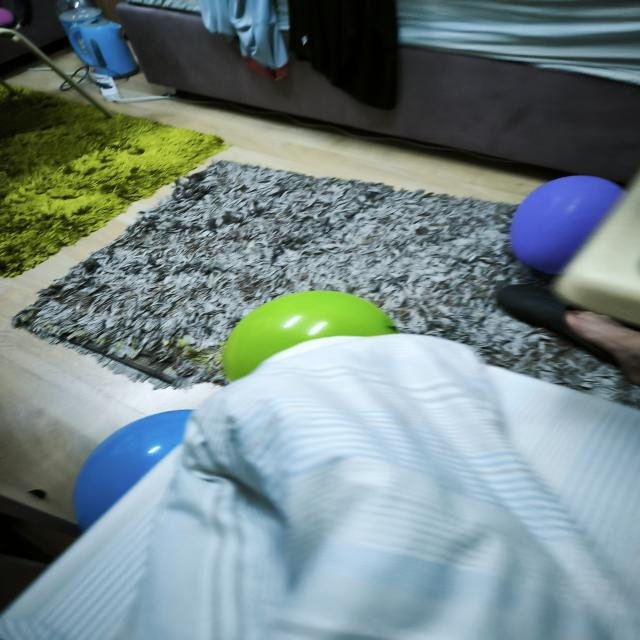balloon: (223, 291, 397, 381), (73, 410, 192, 530)
